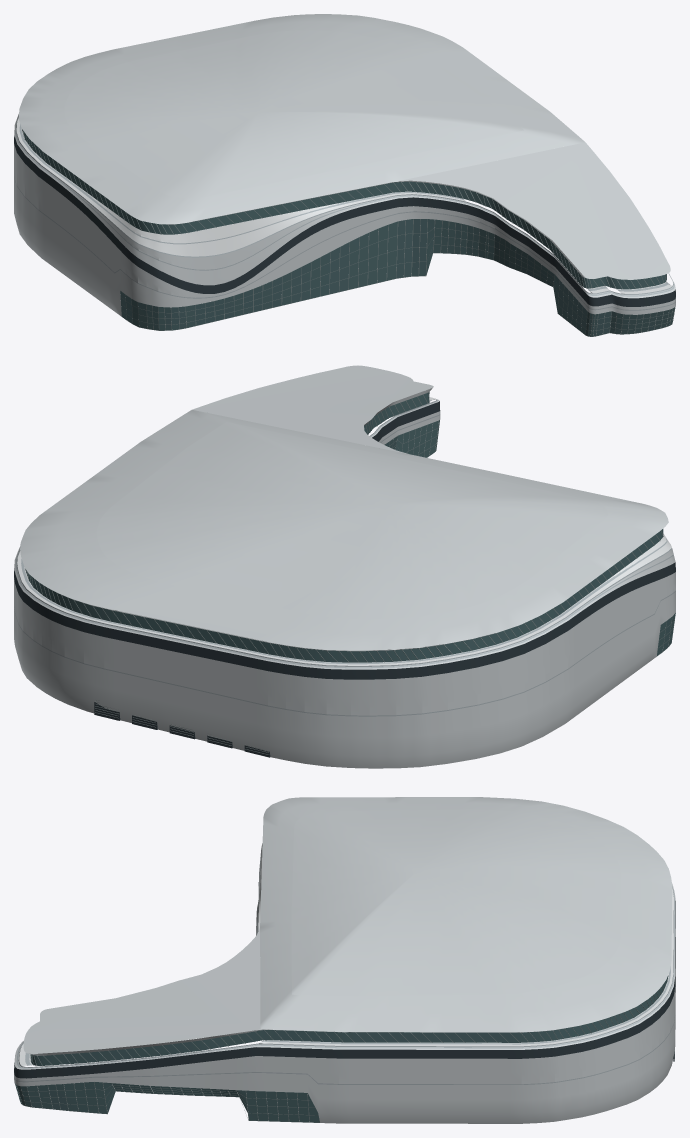
File: rogers-place-near.glb
3 views of the same model, one above another, from view 1: azimuth 30°, elevation 25°; view 2: azimuth 150°, elevation 25°; view 3: azimuth 270°, elevation 25° (orthographic). The views are drawn at different scales.
Parts seen in each view (by area): view 1: rogers-place-0-roof, rogers-place-0-silver, rogers-place-0-glass, rogers-place-0-shadow, rogers-place-0-frame, rogers-place-0-highlight, rogers-place-0-seam; view 2: rogers-place-0-silver, rogers-place-0-roof, rogers-place-0-glass, rogers-place-0-shadow, rogers-place-0-seam, rogers-place-0-highlight, rogers-place-0-frame; view 3: rogers-place-0-roof, rogers-place-0-silver, rogers-place-0-glass, rogers-place-0-shadow, rogers-place-0-seam, rogers-place-0-frame, rogers-place-0-highlight.
Part boxes in pixels (x1,y1,x2,y2): rogers-place-0-roof: (64,30,670,279); rogers-place-0-silver: (14,14,675,316); rogers-place-0-glass: (22,130,675,336); rogers-place-0-shadow: (14,135,675,306); rogers-place-0-frame: (22,129,675,336); rogers-place-0-highlight: (16,118,671,293); rogers-place-0-seam: (14,116,675,310); rogers-place-0-silver: (14,388,675,768); rogers-place-0-roof: (96,365,607,619); rogers-place-0-glass: (25,392,675,662); rogers-place-0-shadow: (14,401,675,757); rogers-place-0-seam: (14,399,675,716); rogers-place-0-highlight: (17,397,671,665); rogers-place-0-frame: (25,392,675,754); rogers-place-0-roof: (23,809,621,1053); rogers-place-0-silver: (14,797,675,1123); rogers-place-0-glass: (14,976,667,1122); rogers-place-0-shadow: (14,882,675,1078); rogers-place-0-seam: (14,850,675,1084); rogers-place-0-frame: (16,975,674,1122); rogers-place-0-highlight: (19,843,673,1065).
Bounding box in the file's own units: 164 × 43 × 206.
